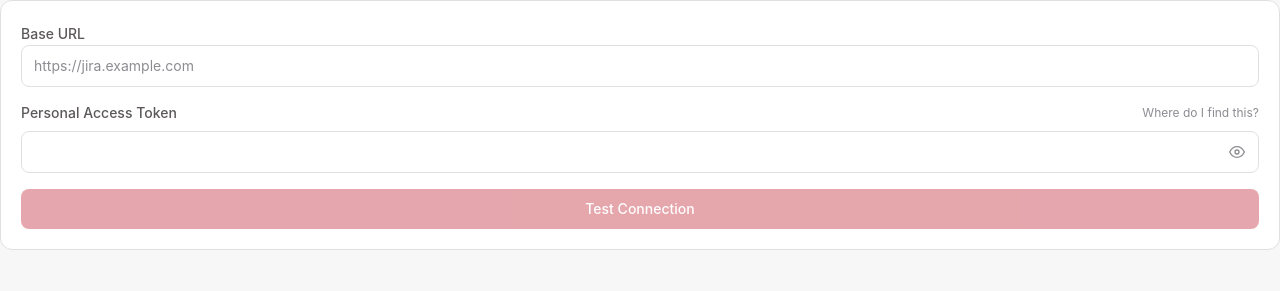
ConnectionForm › shows URL validation error on blur for non-https URL
Type "http://example.com" into the field labelled "Base URL".
click(640, 66); type("http://example.com")  # box [21, 45, 1259, 87]
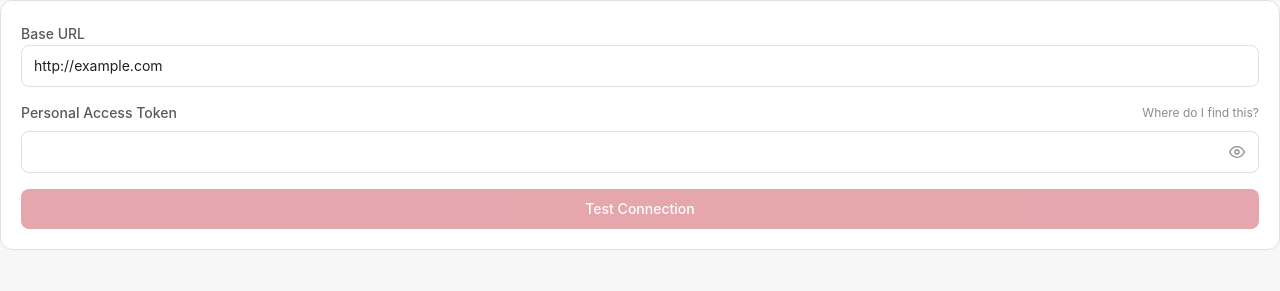
Leave the field labelled "Base URL", box [21, 45, 1259, 87]
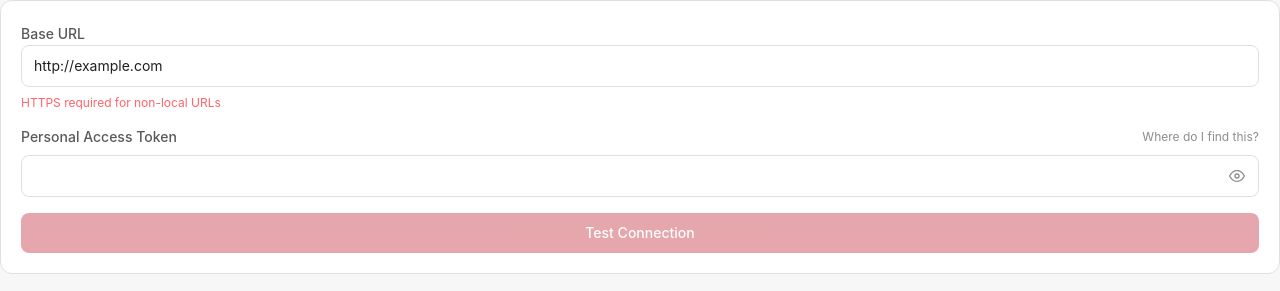
Expected: the text "HTTPS required for non-local URLs" is shown, [21, 95, 221, 110]
